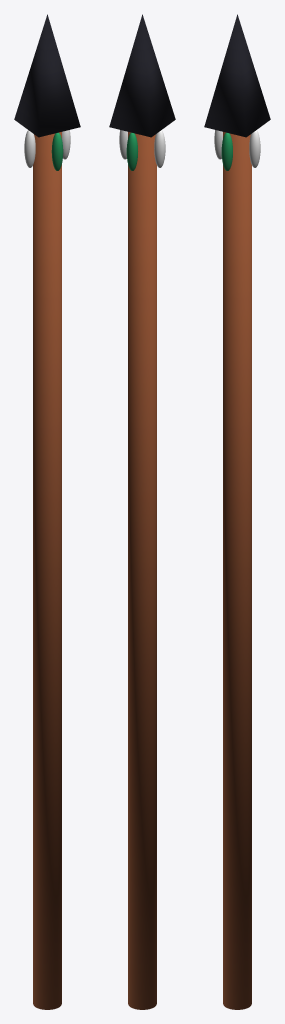
The model's file is lanza_obsidiana_larga.glb.
3 renders of one model, left to right at view 1: azimuth 30°, elevation 25°; view 2: azimuth 150°, elevation 25°; view 3: azimuth 330°, elevation 25°, orthographic.
Visible parts, largest first — view 1: lanza_obsidiana_larga_fijo; view 2: lanza_obsidiana_larga_fijo; view 3: lanza_obsidiana_larga_fijo.
Boxes of the visible parts, x1,y1,x2,y2 form: lanza_obsidiana_larga_fijo: (14, 14, 80, 1009); lanza_obsidiana_larga_fijo: (109, 14, 175, 1009); lanza_obsidiana_larga_fijo: (204, 14, 270, 1009).
Size of the model in its own units: 0.18 by 3.8 by 0.18.
Materials: 2 (2 with a texture image).
